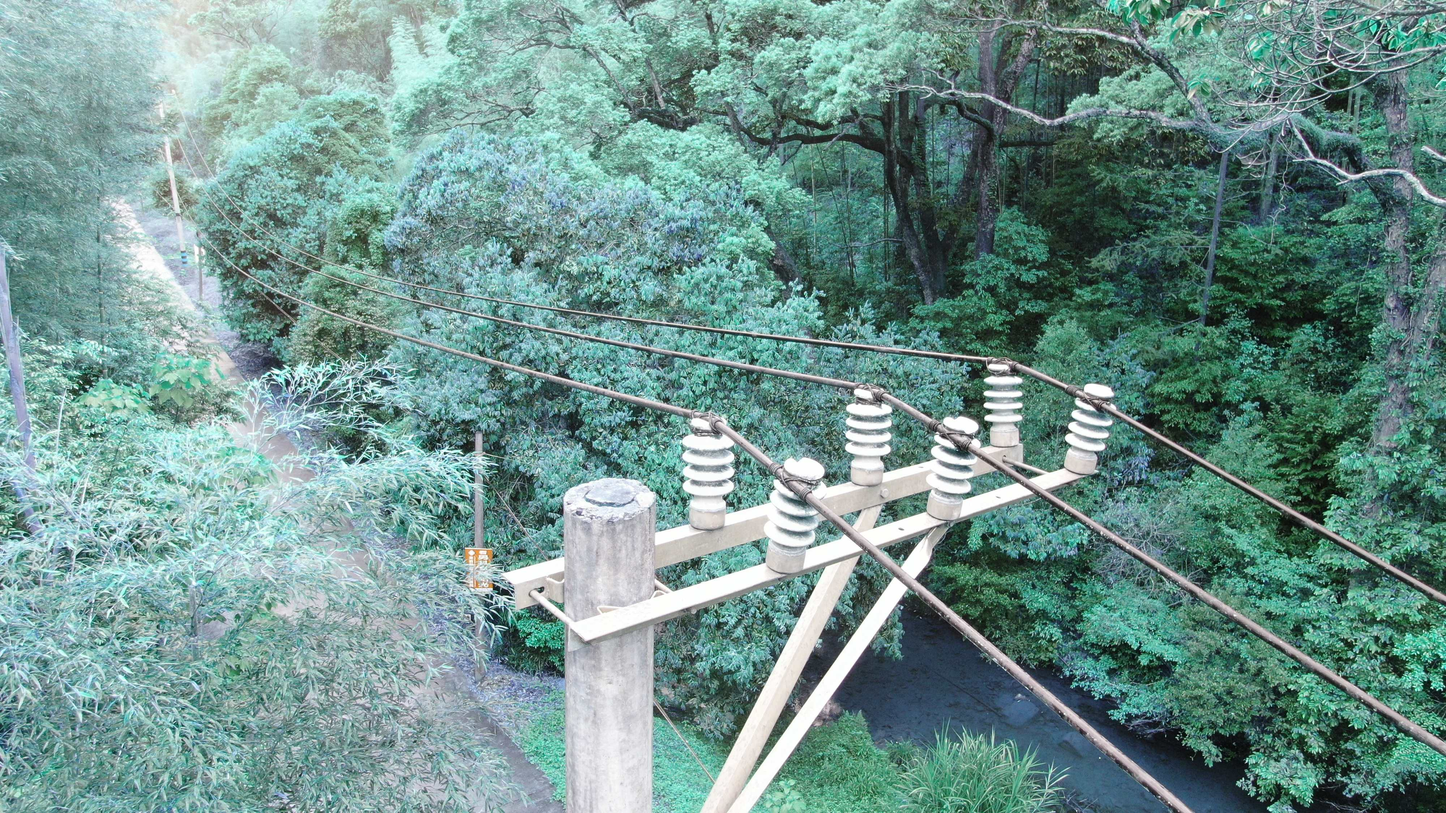severe_soiling_no_discharge_whole: (762, 453, 828, 571), (677, 414, 739, 534), (924, 410, 983, 518), (1062, 381, 1118, 475), (842, 384, 894, 483), (980, 357, 1027, 447)
